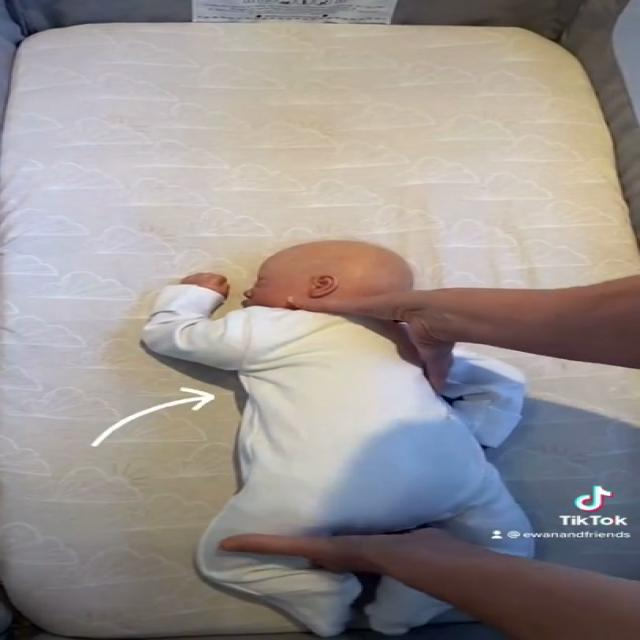baby: (132, 236, 540, 640)
